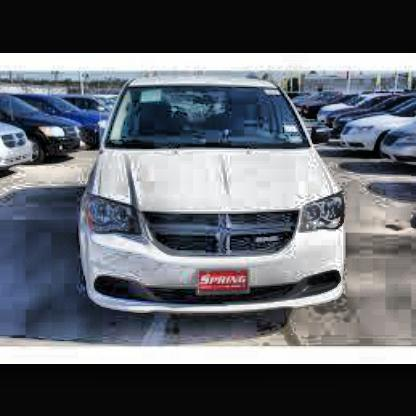Ram C-V Cargo Van Minivan 2012: (83, 77, 349, 316)
